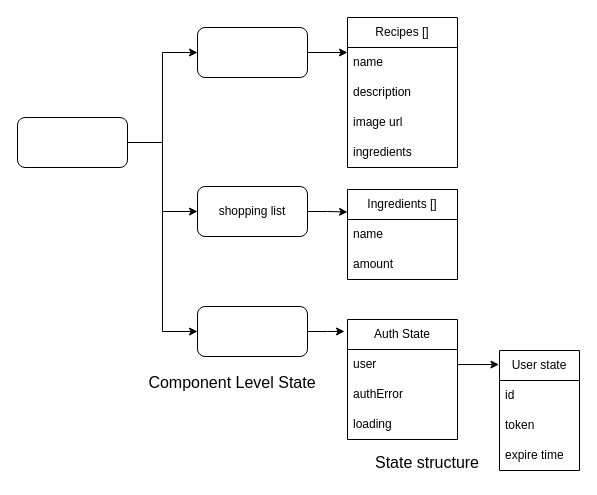
Image size: 597x495. Some labels were removed from this diagram. Each missing label, with the centre of its shape:
"App level store" belongs at (x=72, y=142).
"auth" belongs at (x=252, y=331).
"recipes" belongs at (x=252, y=52).
